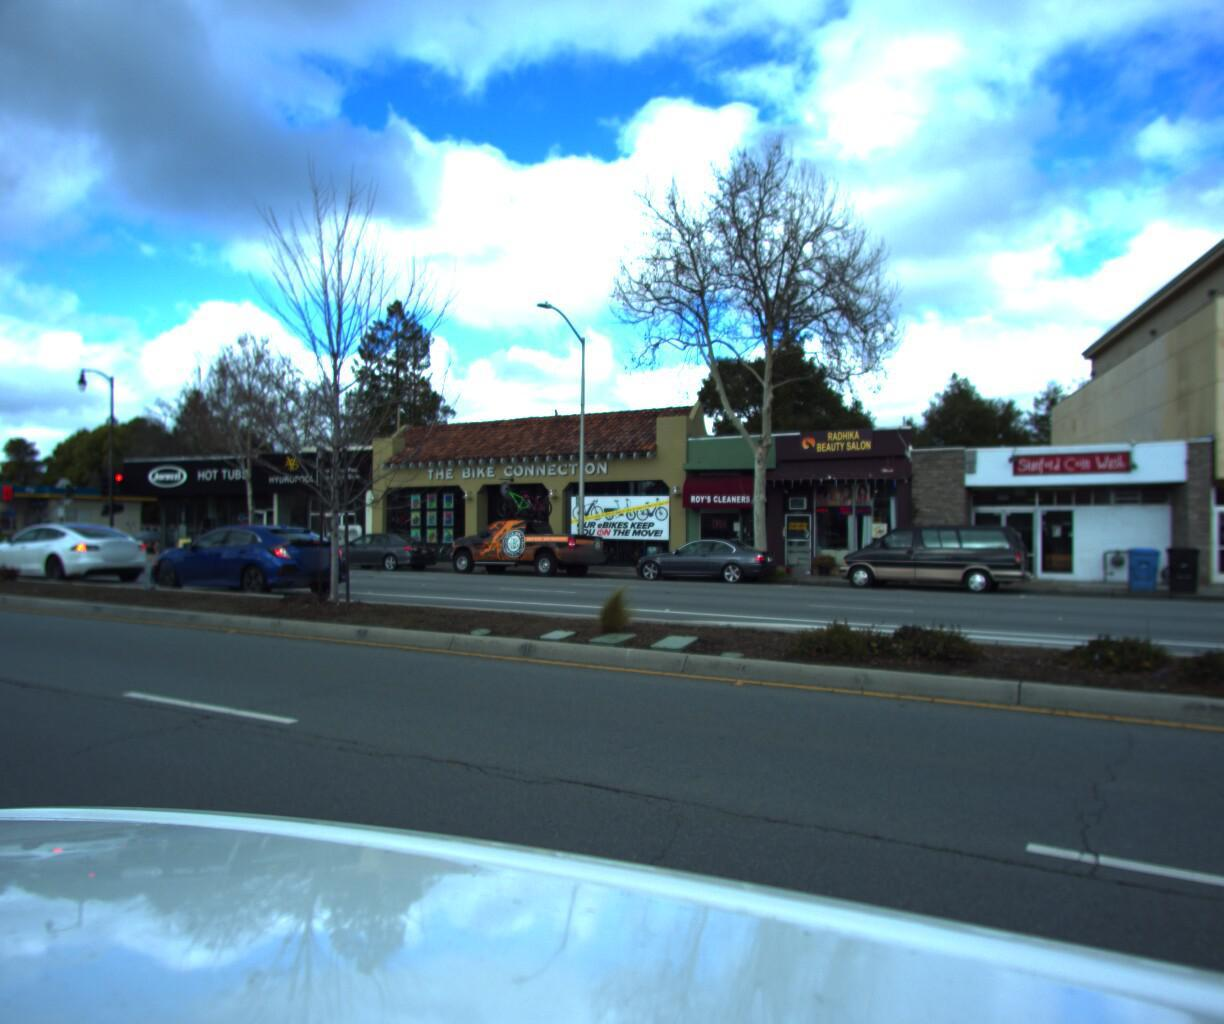car: (131, 516, 359, 598), (434, 481, 610, 574), (827, 517, 1031, 590), (0, 517, 156, 583), (621, 531, 782, 580), (314, 526, 442, 569)
